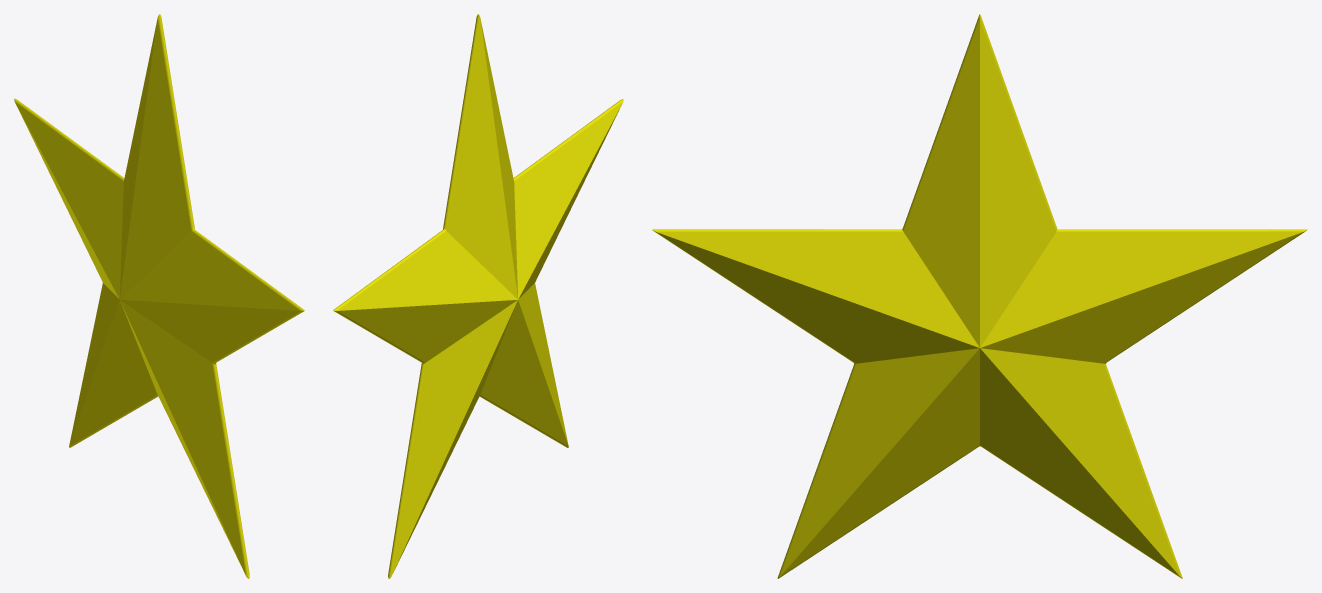
The model's file is star3.glb.
3 views of the same model, side by side, from view 1: azimuth 30°, elevation 25°; view 2: azimuth 150°, elevation 25°; view 3: azimuth 270°, elevation 25° (orthographic). The views are drawn at different scales.
Visible parts, largest first — view 1: Circle; view 2: Circle; view 3: Circle.
Boxes of the visible parts, x1,y1,x2,y2 form: Circle: (14, 14, 304, 578); Circle: (333, 14, 623, 578); Circle: (652, 14, 1307, 578).
Bounding box in the file's own units: 0.3 × 1.8 × 1.9.
